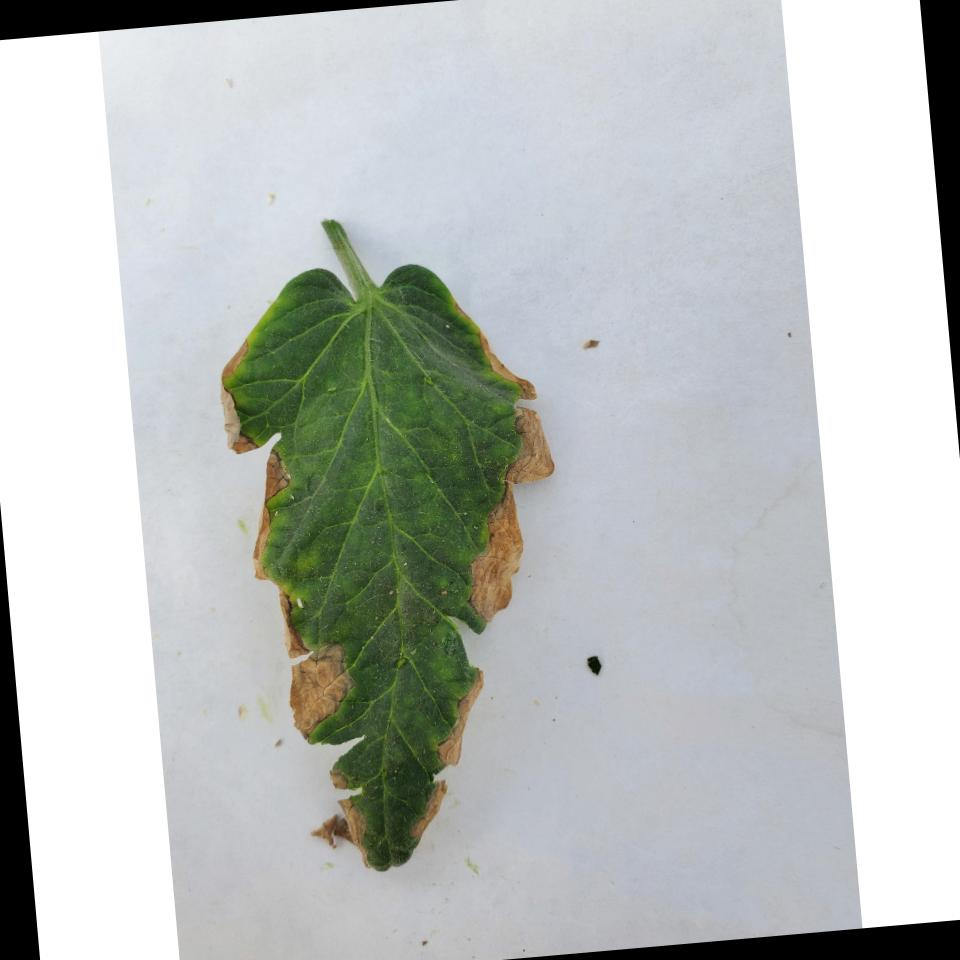tomato_bacterial_blight: (193, 230, 588, 892)
